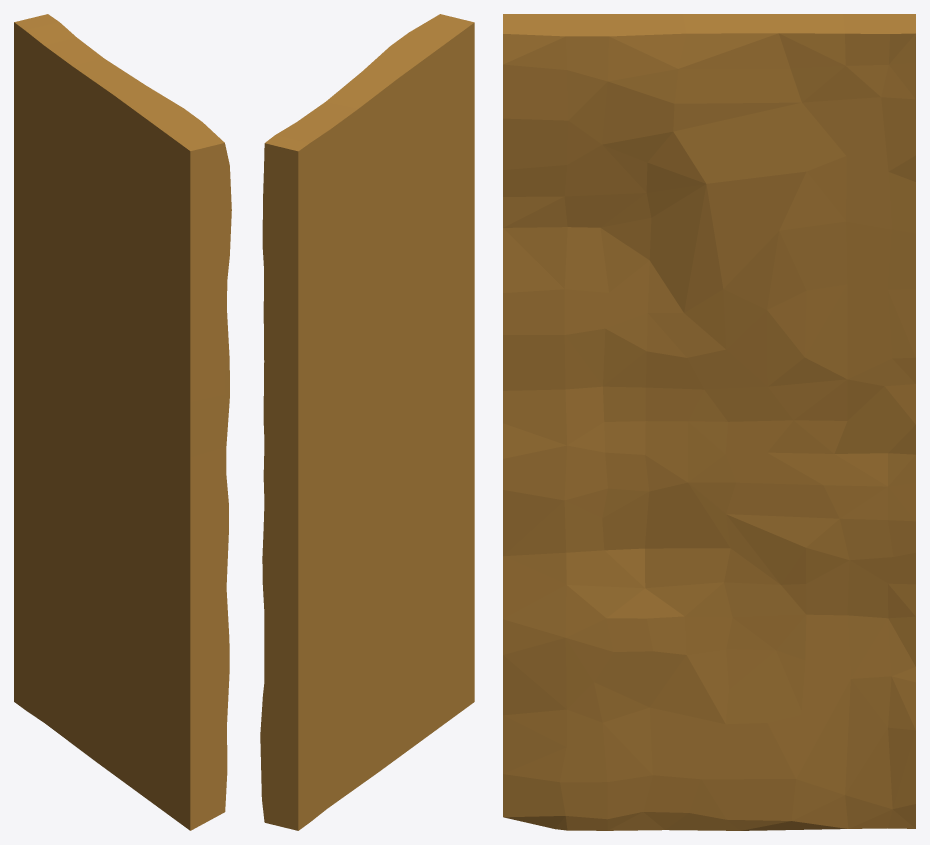
File: Modulo Pared 1.fbx
3 renders of one model, left to right at view 1: azimuth 30°, elevation 25°; view 2: azimuth 150°, elevation 25°; view 3: azimuth 270°, elevation 25°, orthographic. The views are drawn at different scales.
Parts seen in each view (by area): view 1: Modulo pared 1; view 2: Modulo pared 1; view 3: Modulo pared 1.
Boxes of the visible parts, x1=… form: Modulo pared 1: x1=14, y1=14, x2=231, y2=830; Modulo pared 1: x1=260, y1=14, x2=474, y2=830; Modulo pared 1: x1=503, y1=14, x2=915, y2=830.
Bounding box in the file's own units: 84.93 × 1276 × 600.
